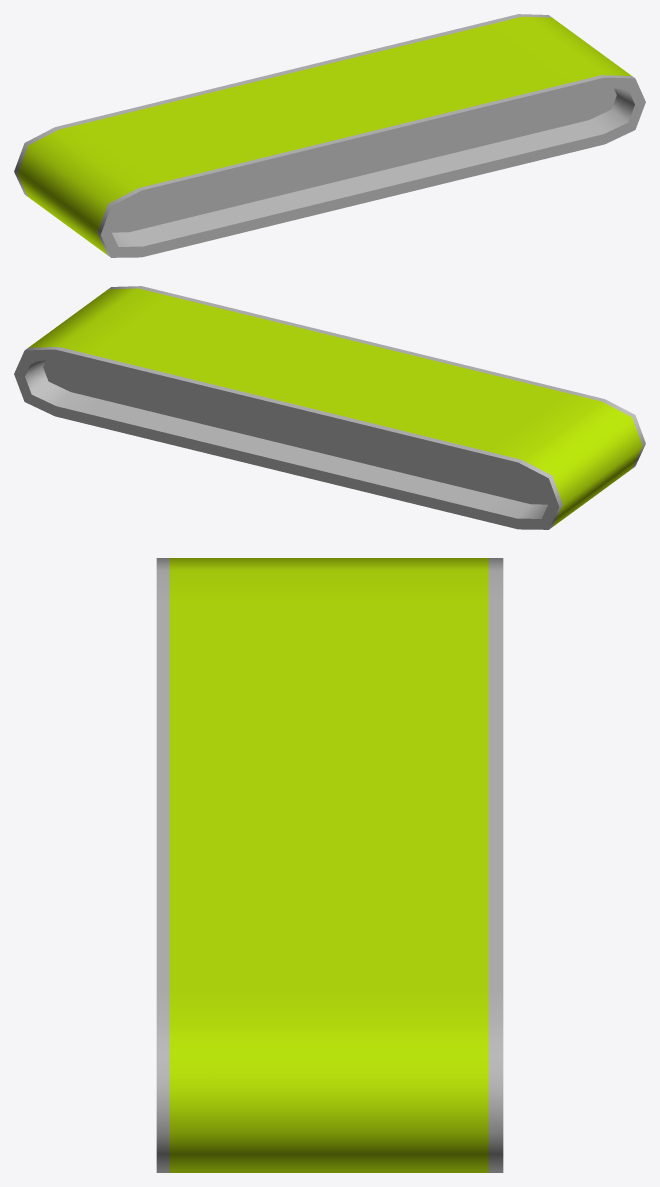
File: conveyer.fbx
The picture shows the model from 3 angles, top to bottom: view 1: azimuth 30°, elevation 25°; view 2: azimuth 150°, elevation 25°; view 3: azimuth 270°, elevation 25°; orthographic projection. The views are drawn at different scales.
Visible parts, largest first — view 1: pCube2; view 2: pCube2; view 3: pCube2.
Part boxes in pixels (bbox=[...]): pCube2: bbox=[14, 14, 645, 257]; pCube2: bbox=[14, 286, 645, 529]; pCube2: bbox=[156, 558, 503, 1172].
Bounding box in the file's own units: 8 × 0.9375 × 2.2.
